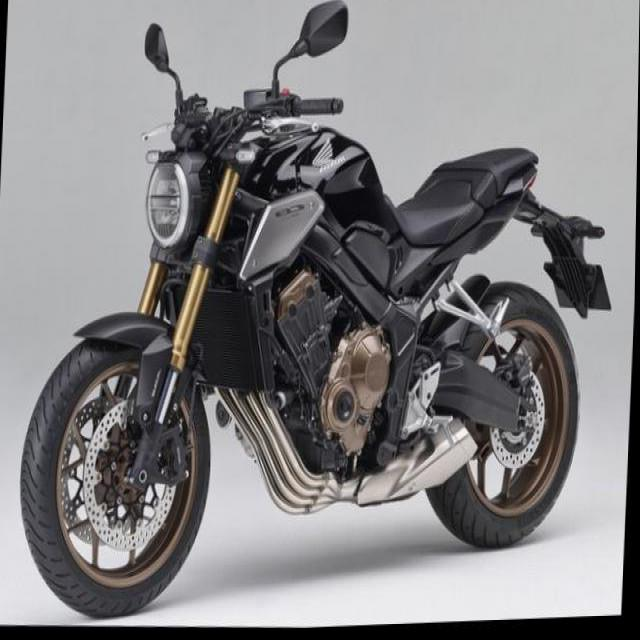CB650R: (14, 0, 625, 638)
